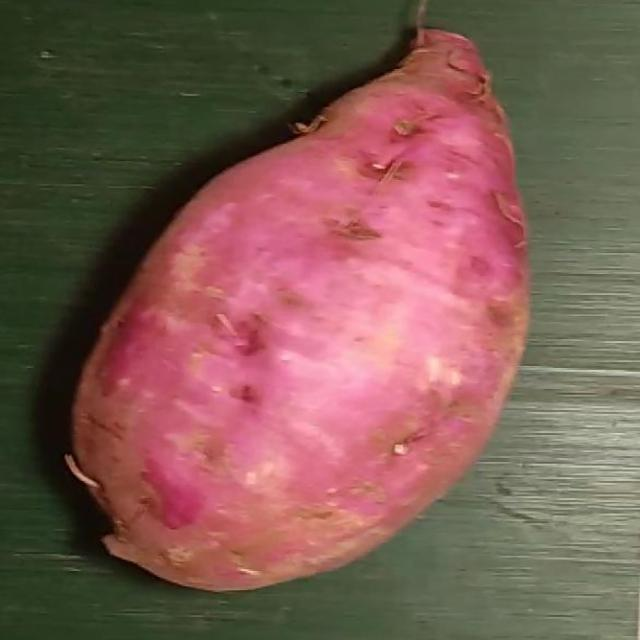Sweet Potato: (64, 27, 530, 594)
